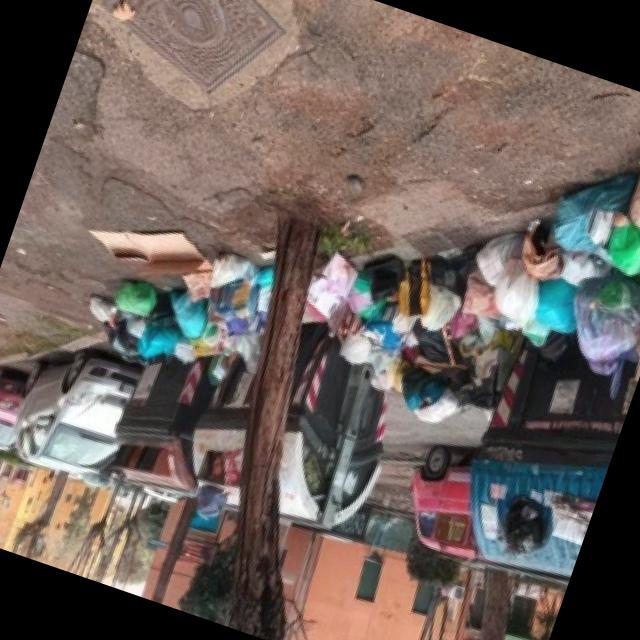high trash: (305, 154, 640, 422), (89, 231, 272, 363)
